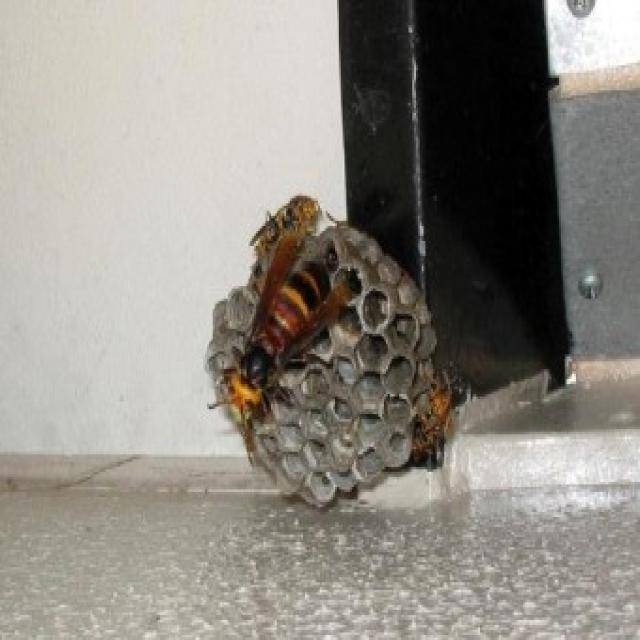Wasp: (223, 250, 344, 438)
